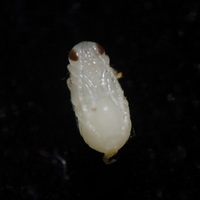insect: (67, 41, 131, 163)
